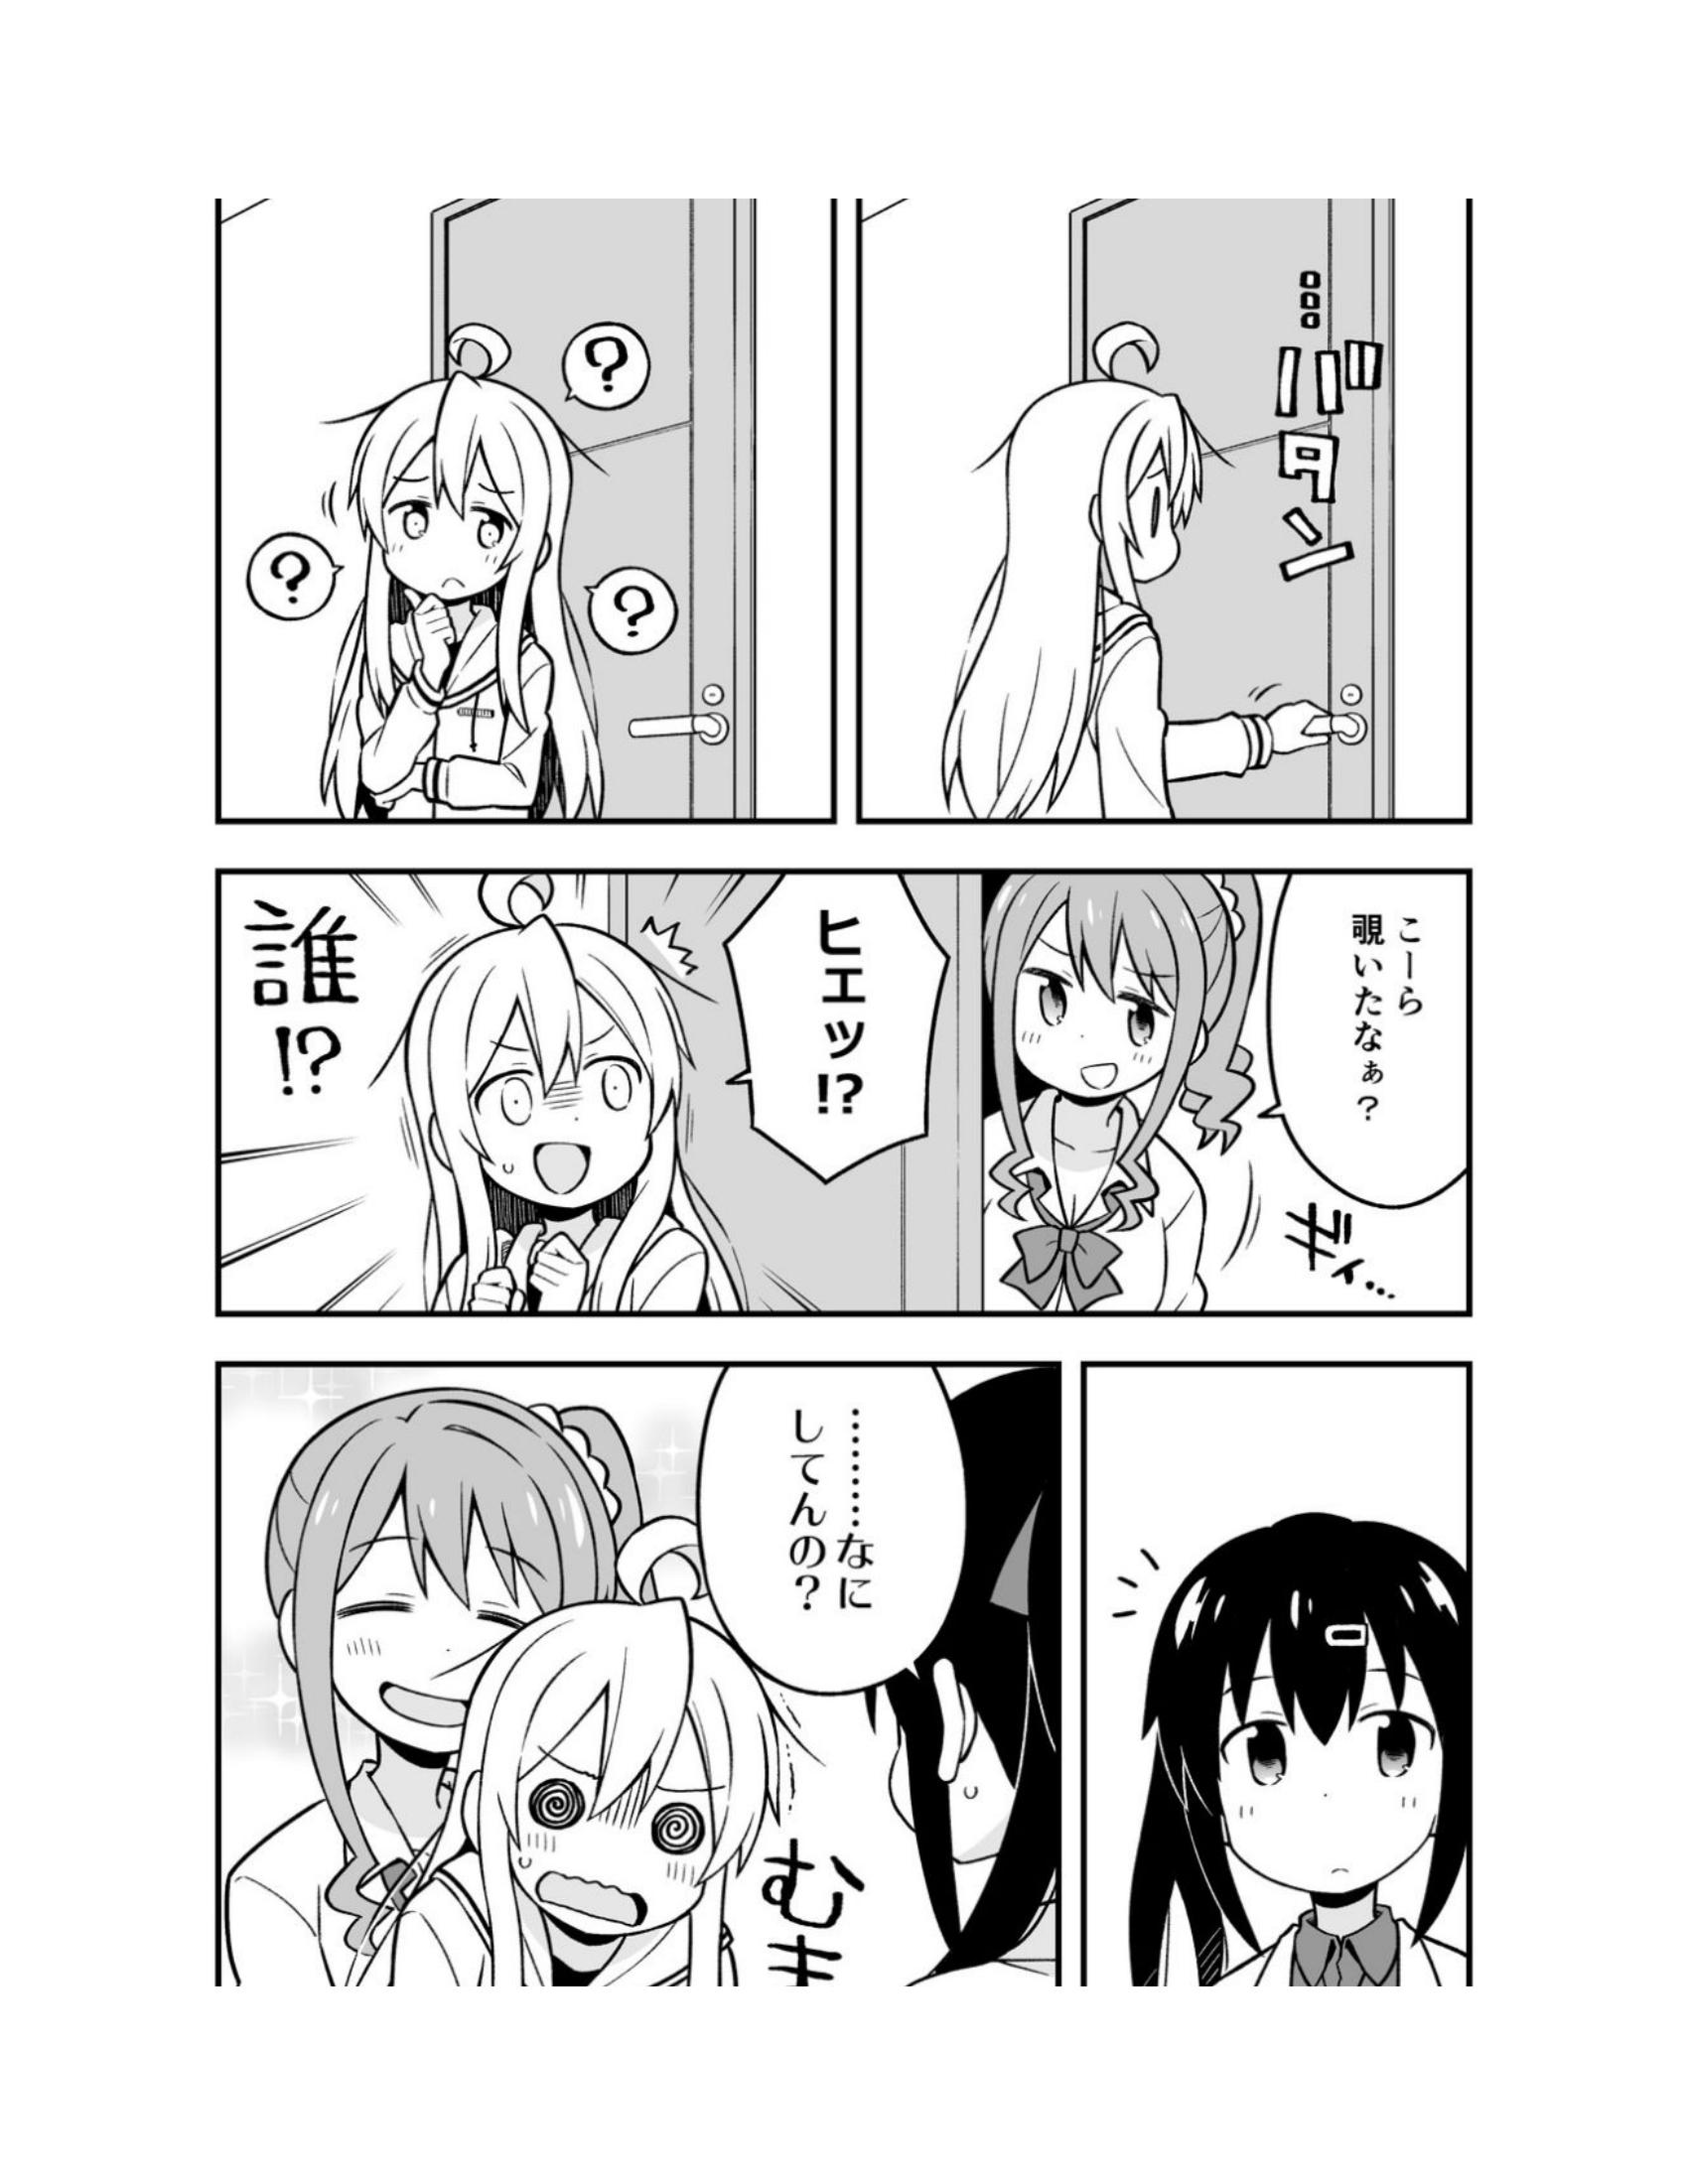a: (709, 1360, 995, 1675), (718, 872, 957, 1225), (1264, 851, 1473, 1225)
